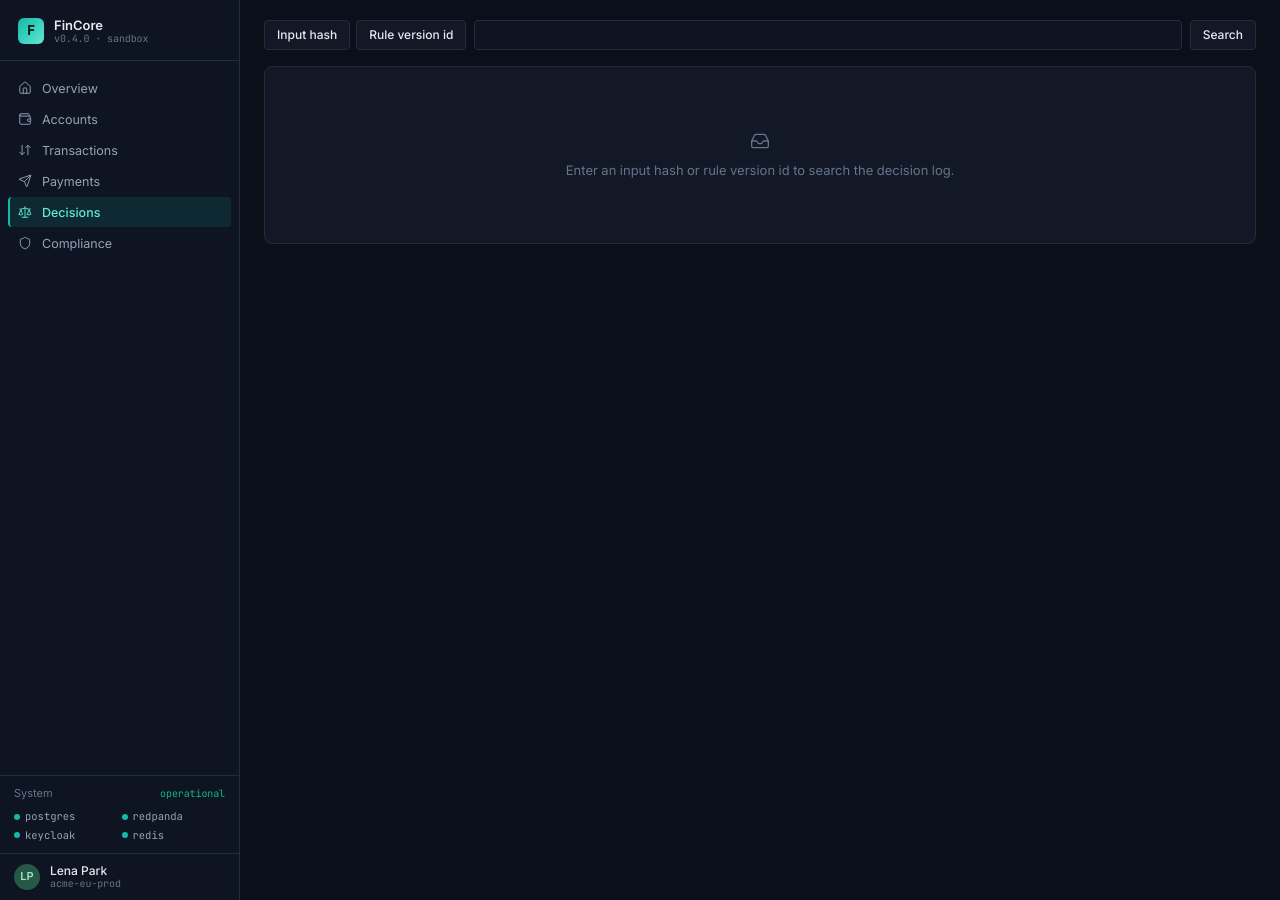
Test: Decisions › shows an empty state when the query returns no logs
In the field named "Query value": {"x": 828, "y": 35} [474,20,1182,50], type "hash-none"
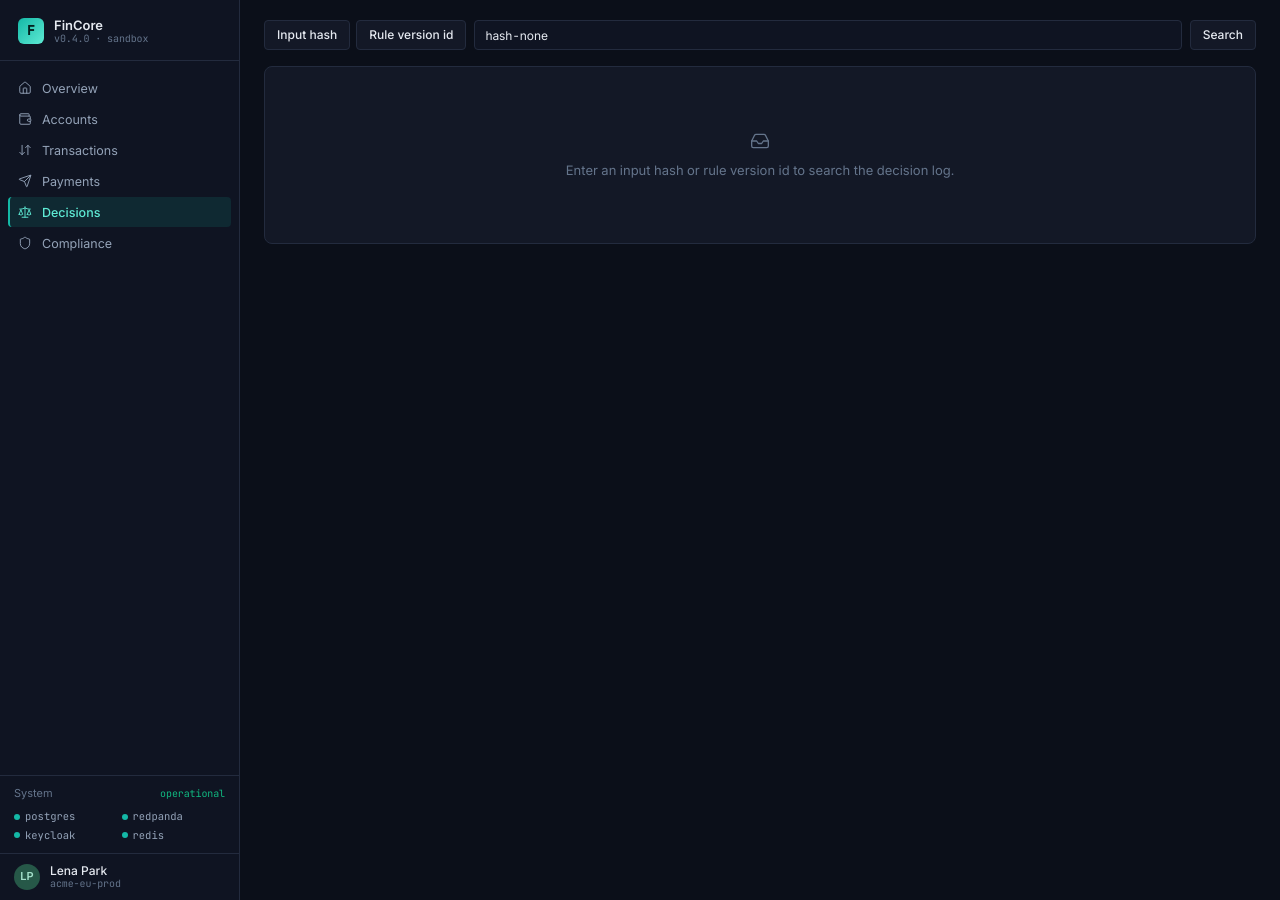
Click the button "Search": {"x": 1223, "y": 35} [1190,20,1256,50]
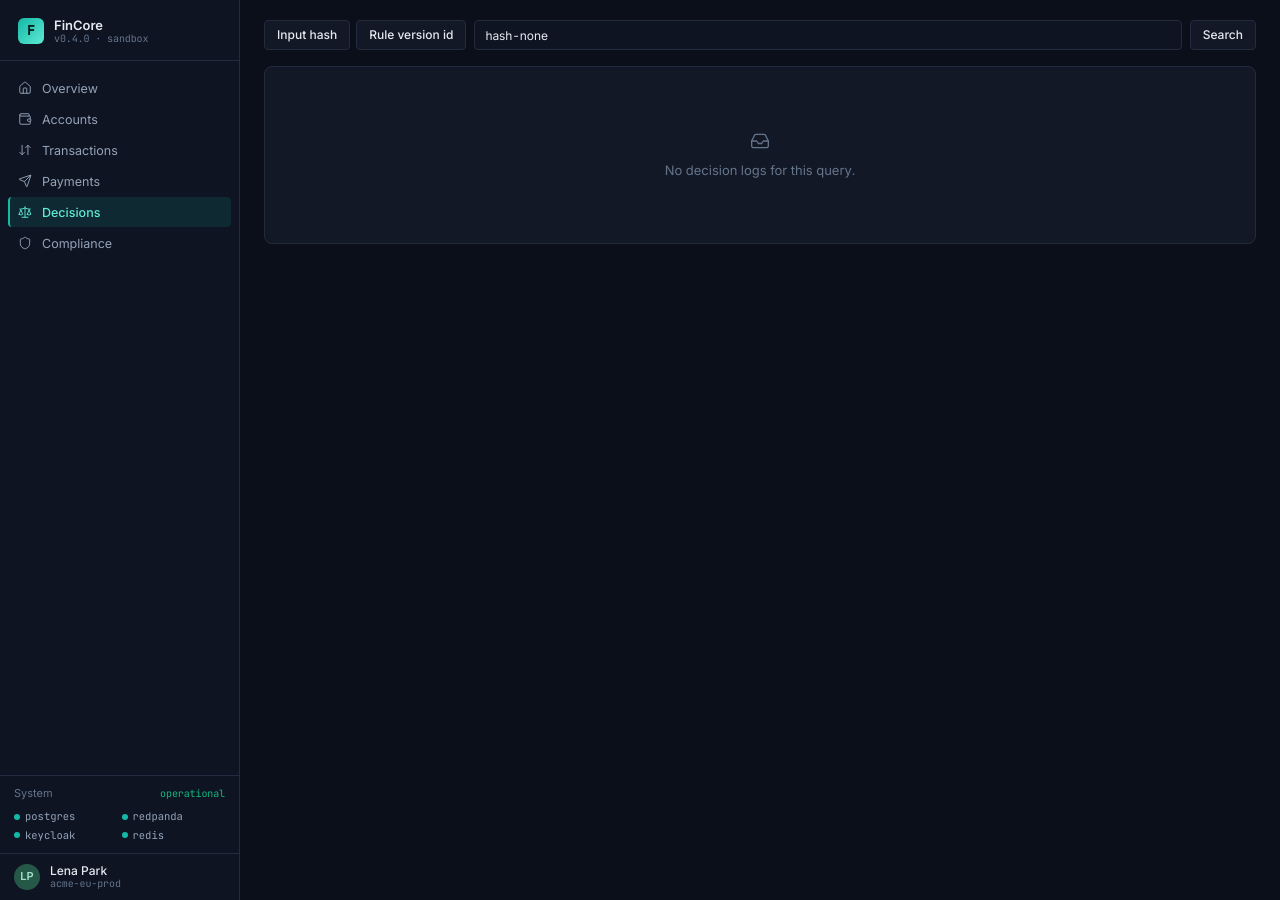
Check: the text "No decision logs for this query." is shown, box [665,161,855,179]
